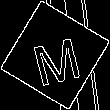M_N: (27, 25, 83, 85)
